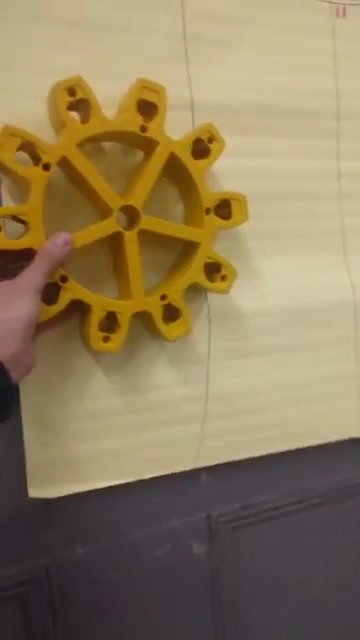gear: (1, 67, 246, 350)
